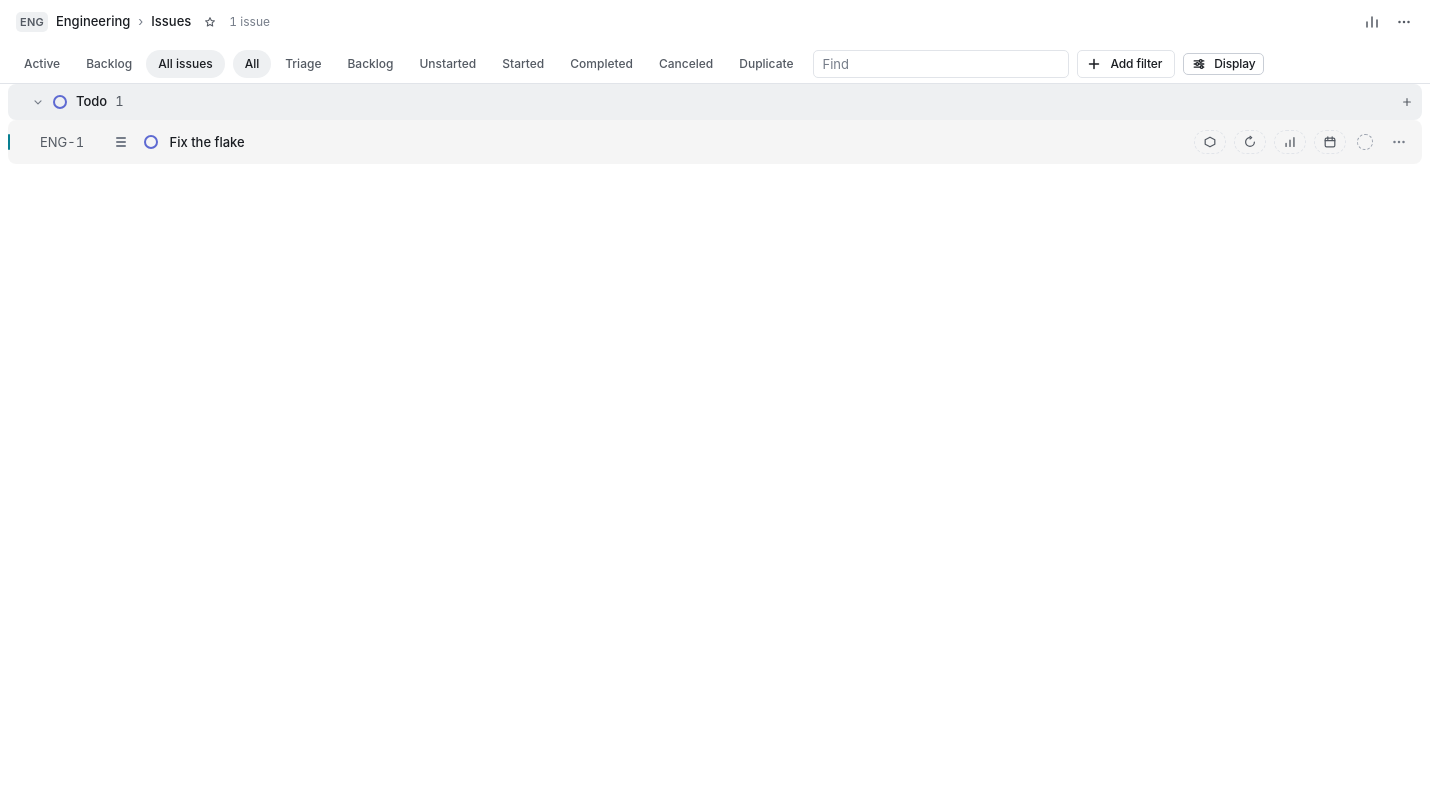
Test: a row whose properties are not set yet › opens the due date picker from the row that has no deadline
This screenshot has width=1440, height=810.
Click the button named "No due date" at (1330, 142), box x1=1314 y1=130 x2=1346 y2=154
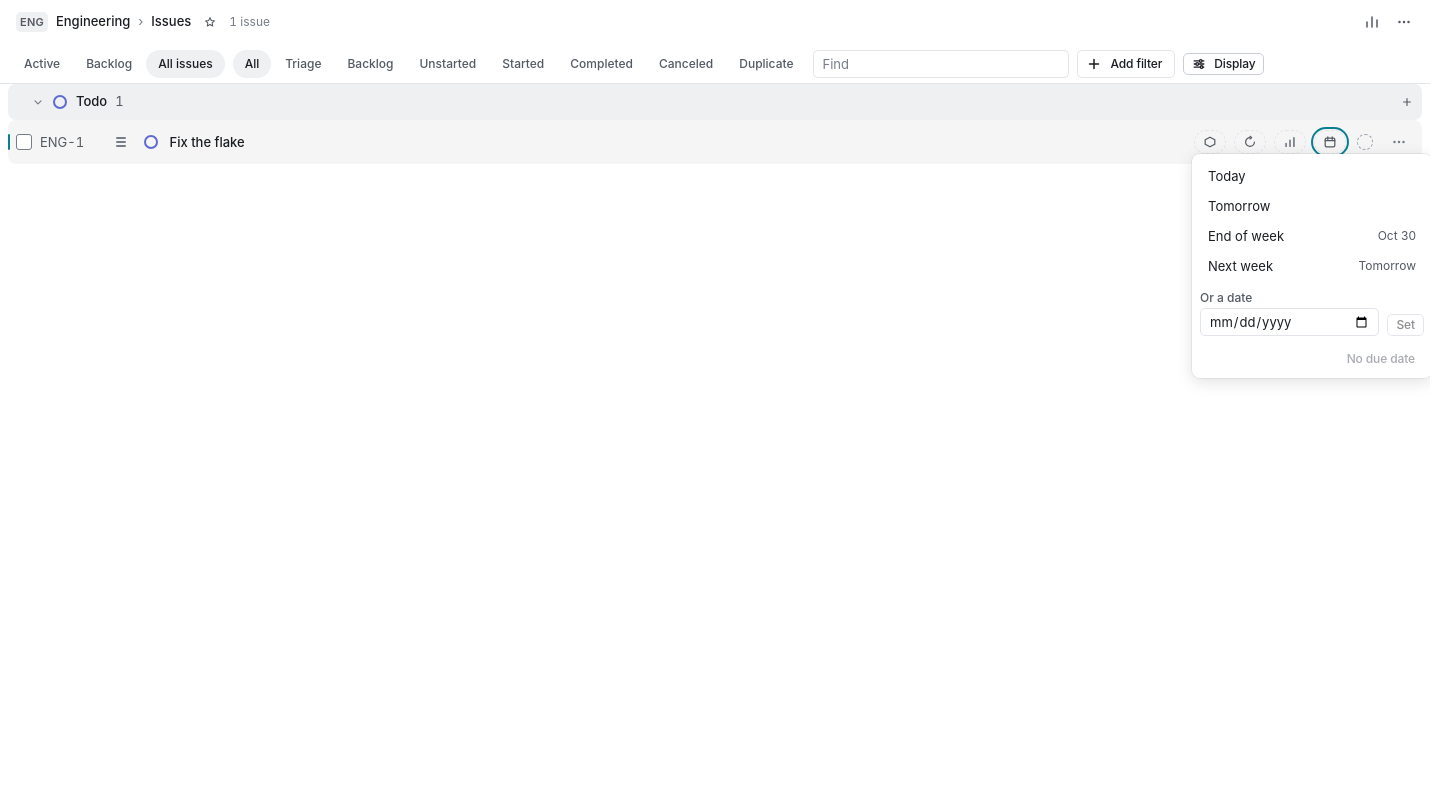
Now the dialog "due date" is shown, box x1=1192 y1=154 x2=1432 y2=378
